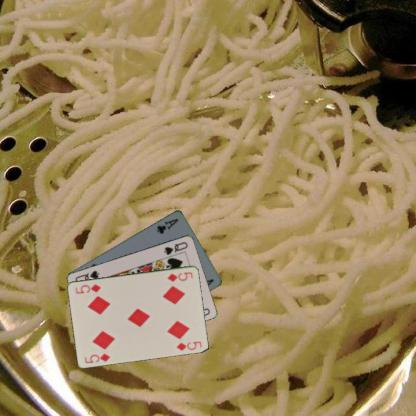5d: (165, 269, 194, 283), (82, 351, 112, 364)
Ac: (154, 216, 180, 235)
Qs: (161, 239, 189, 256)
